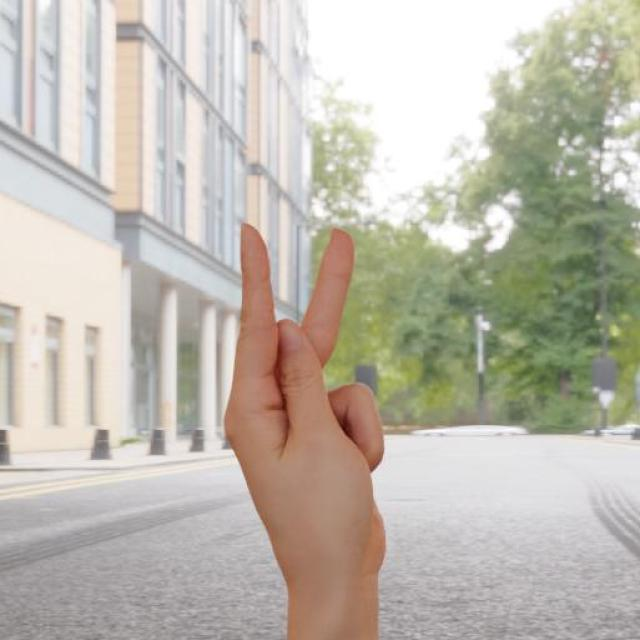K: (219, 218, 389, 622)
